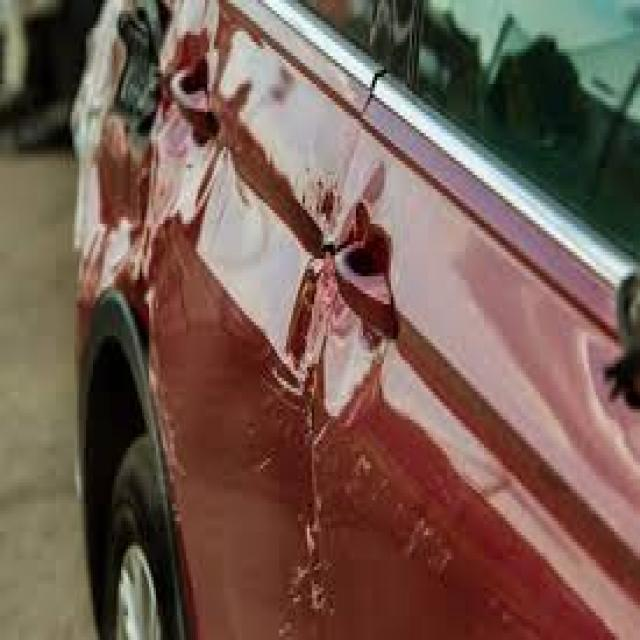car damage: (377, 313, 516, 512), (291, 201, 403, 413), (135, 25, 233, 227), (78, 116, 151, 304)
